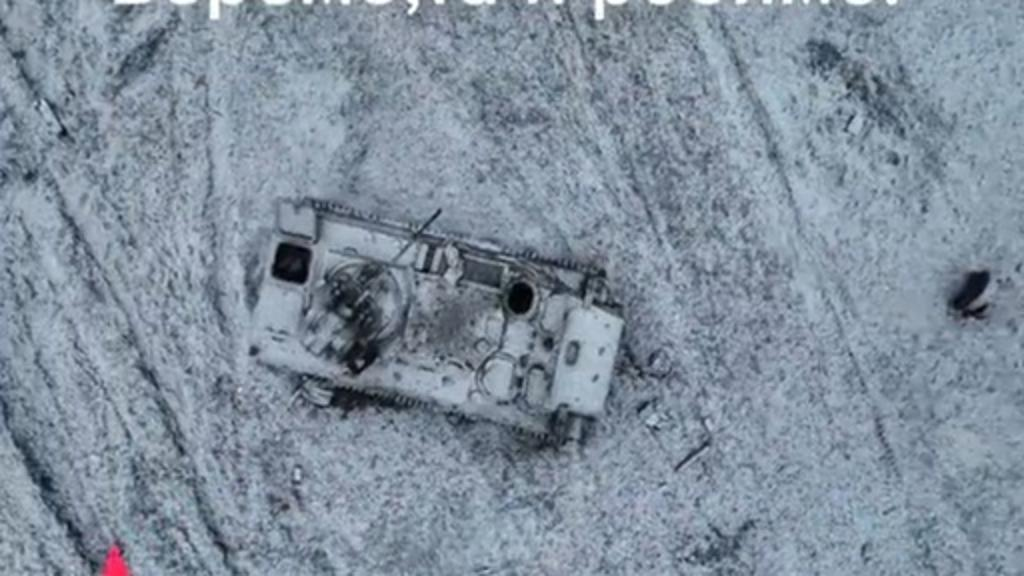APC-IFV: (232, 180, 628, 456)
